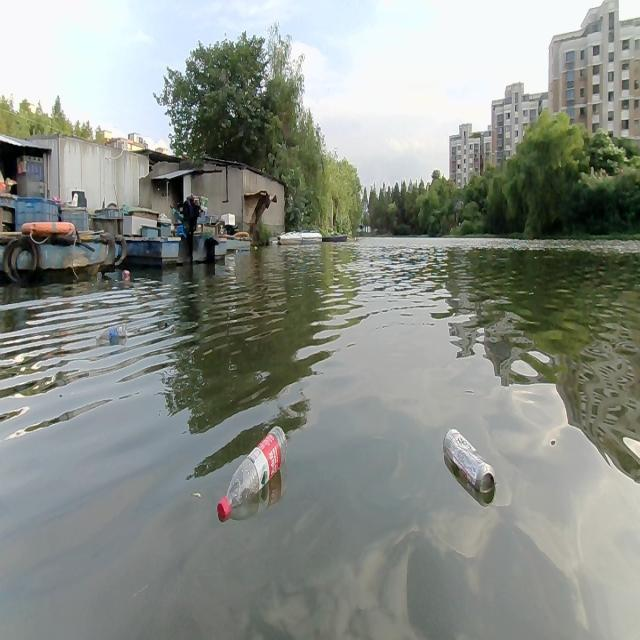bottle: (214, 424, 290, 519), (442, 426, 496, 508), (93, 321, 125, 346), (120, 267, 130, 278)
